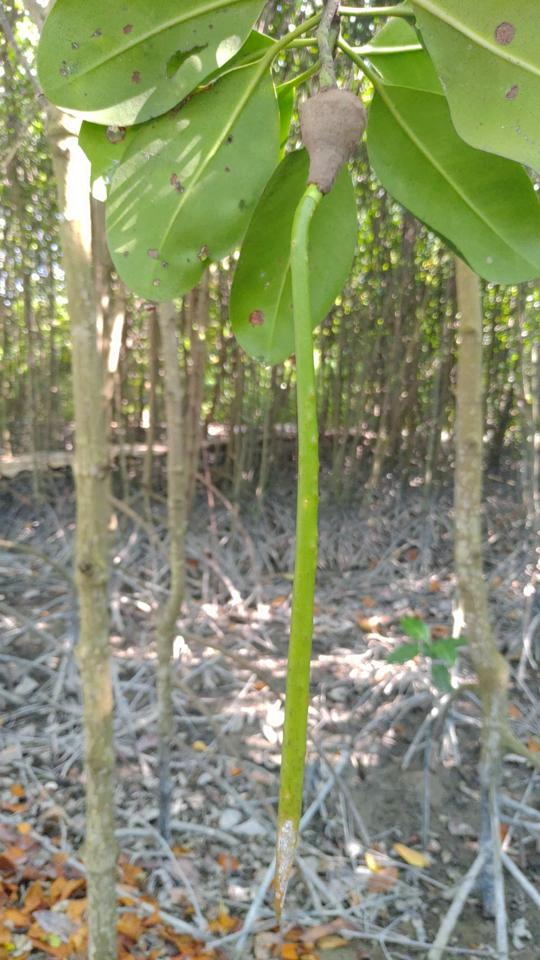setengah matang: (259, 60, 376, 934)
